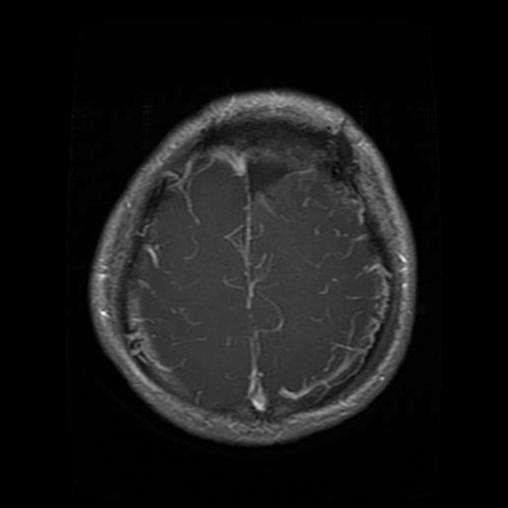Tumour-Glioma: (224, 130, 309, 199)
